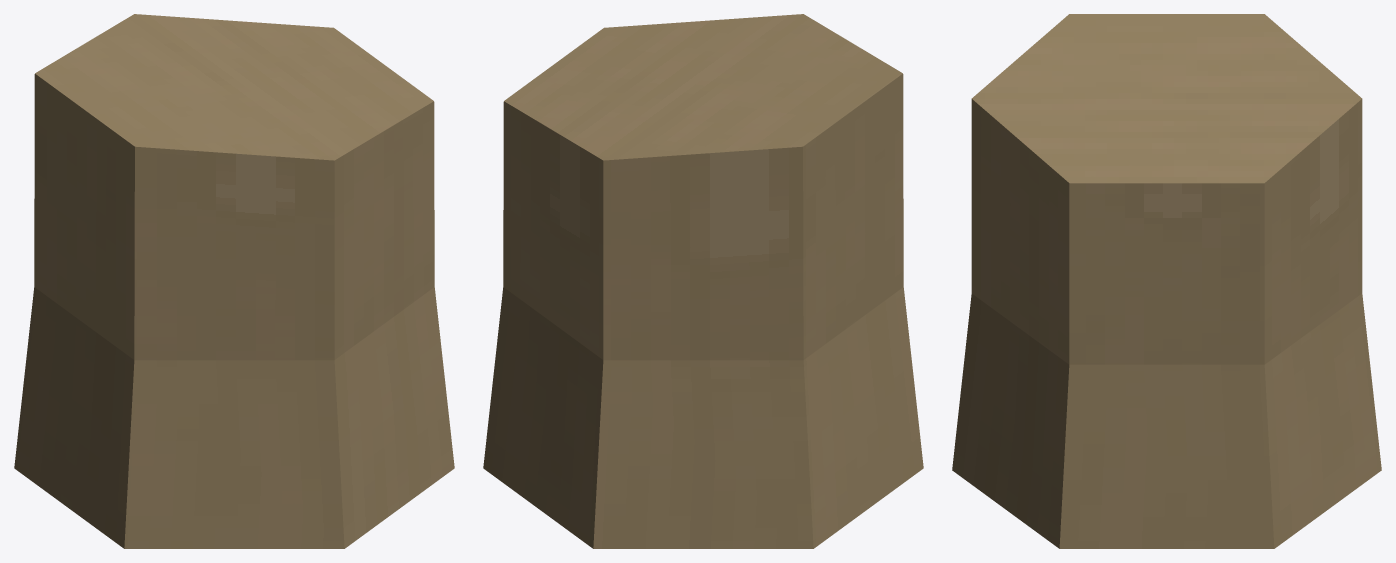
Rendered from candle_03.glb.
3 views of the same model, side by side, from view 1: azimuth 30°, elevation 25°; view 2: azimuth 150°, elevation 25°; view 3: azimuth 270°, elevation 25° (orthographic). The views are drawn at different scales.
Parts seen in each view (by area): view 1: candle_03; view 2: candle_03; view 3: candle_03.
Boxes of the visible parts, x1=… form: candle_03: x1=14, y1=14, x2=454, y2=548; candle_03: x1=483, y1=14, x2=923, y2=548; candle_03: x1=952, y1=14, x2=1381, y2=548.
Bounding box in the file's own units: 0.3811 × 0.4351 × 0.44.
1 material, 1 textured.
